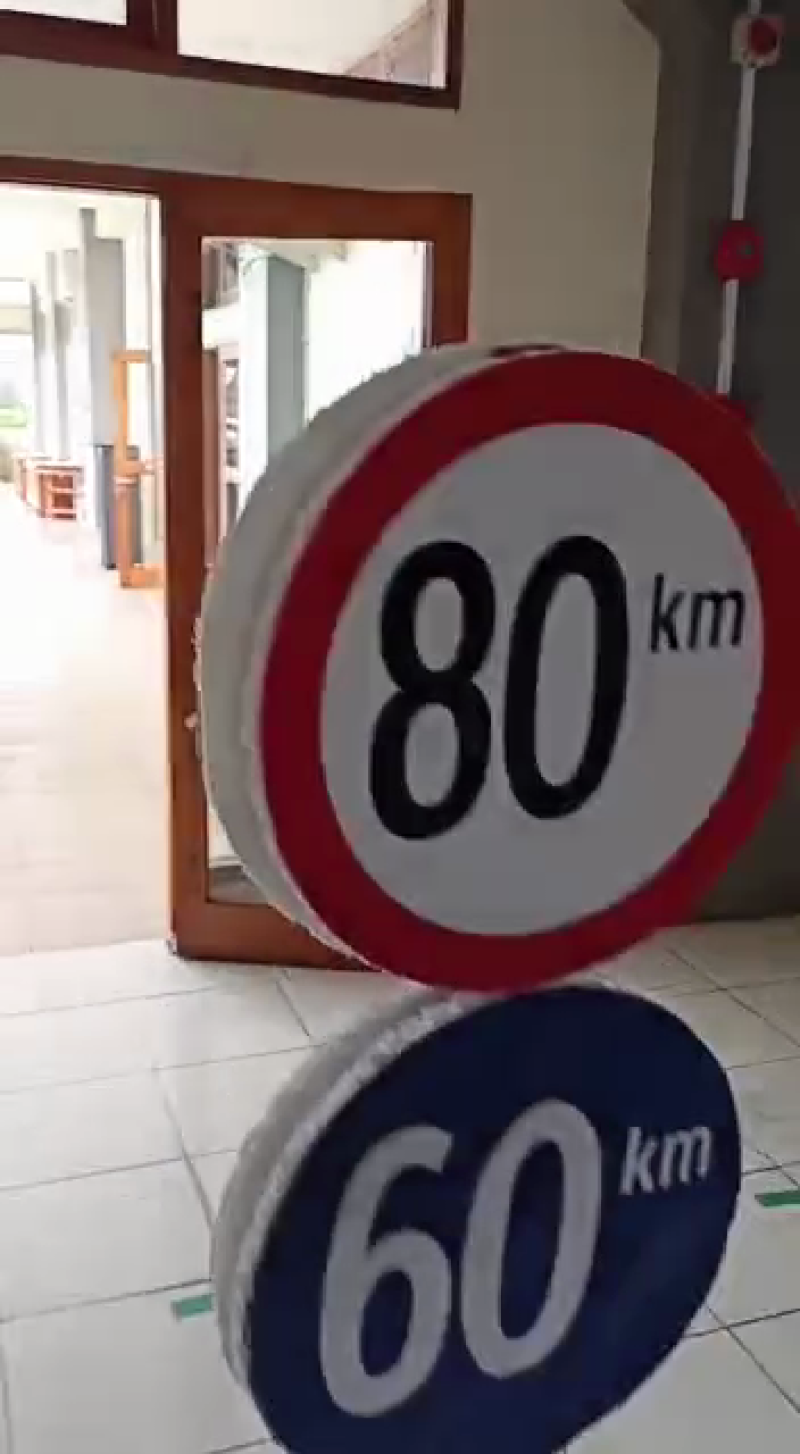batas maksimal 80kmperjam minimal 60kmperjam: (221, 344, 800, 1454)
